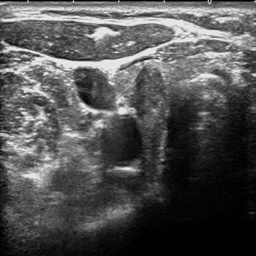mass: (135, 66, 169, 121)
